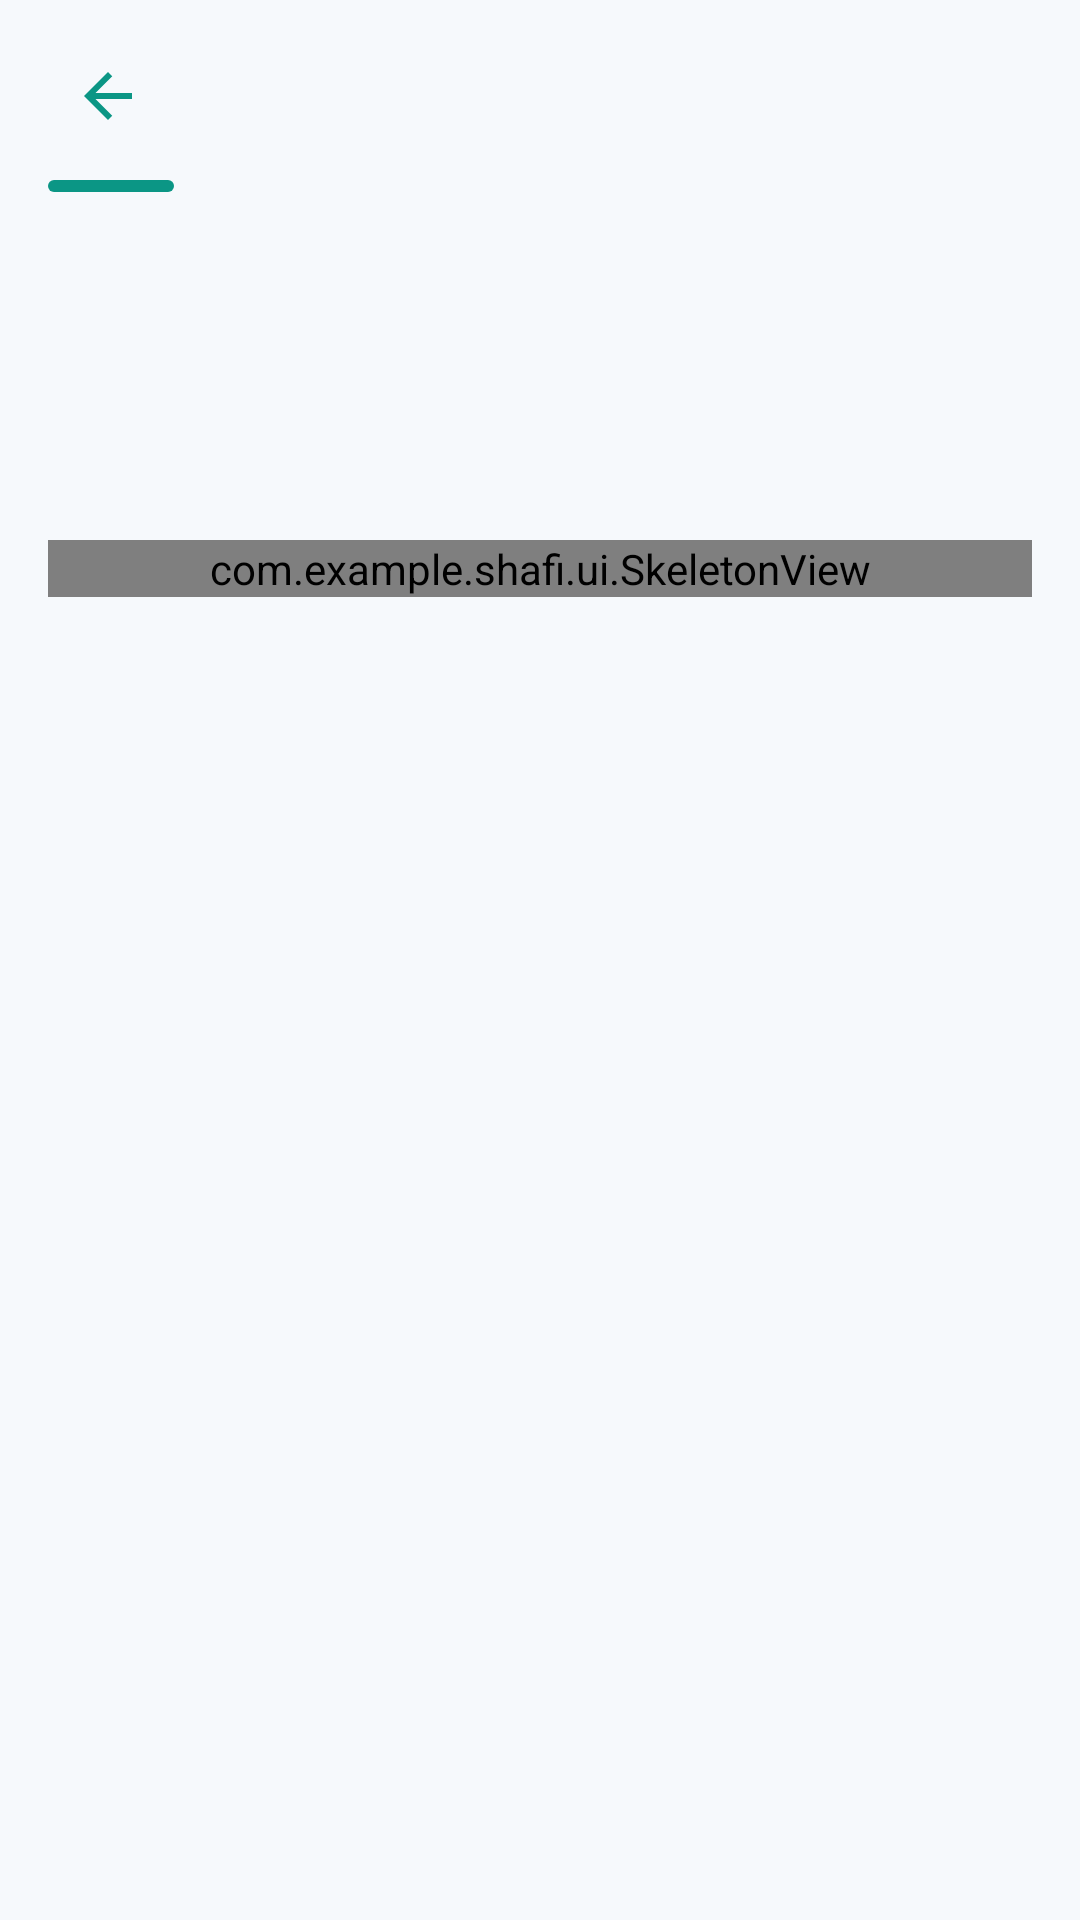

Icons on this 1080*1920 Android screen, each with its box as detection(x1, y1, x2, y2):
Back: detection(84, 72, 132, 120)
